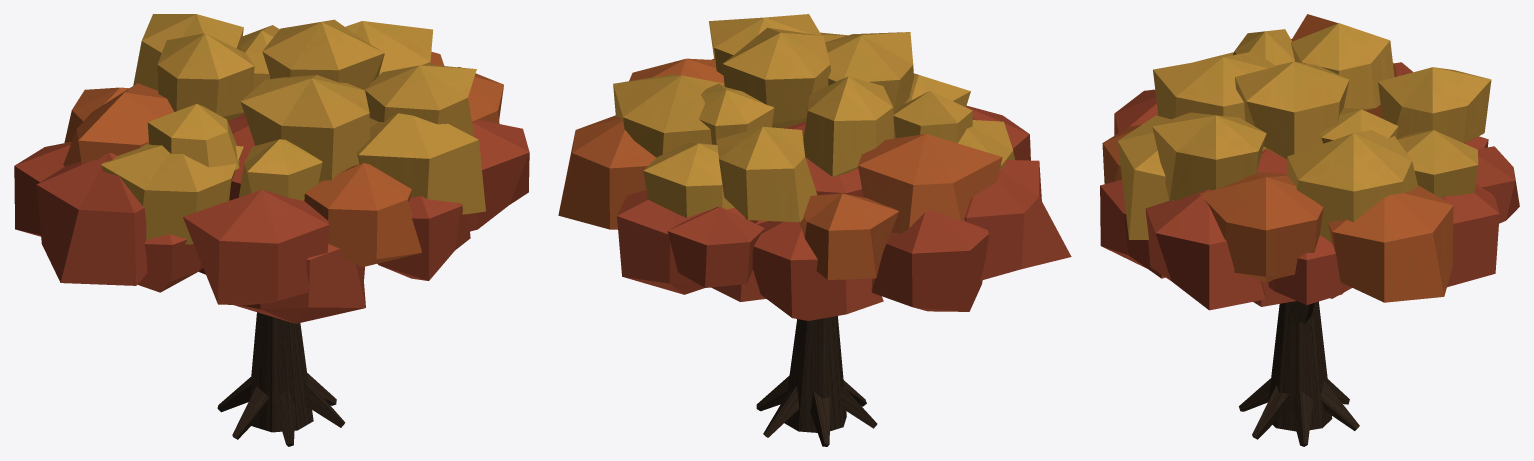
Rendered from tree_broadleaf_02_autumn.glb.
The picture shows the model from 3 angles, left to right: view 1: azimuth 30°, elevation 25°; view 2: azimuth 150°, elevation 25°; view 3: azimuth 270°, elevation 25°; orthographic projection. The views are drawn at different scales.
Parts seen in each view (by area): view 1: tree_broadleaf_02_autumn; view 2: tree_broadleaf_02_autumn; view 3: tree_broadleaf_02_autumn.
Part boxes in pixels (x1,y1,x2,y2): tree_broadleaf_02_autumn: (14,14,529,446); tree_broadleaf_02_autumn: (558,14,1071,446); tree_broadleaf_02_autumn: (1100,14,1519,446).
Size of the model in its own units: 6.74 by 5.58 by 5.61.
Materials: 5 (5 with a texture image).
